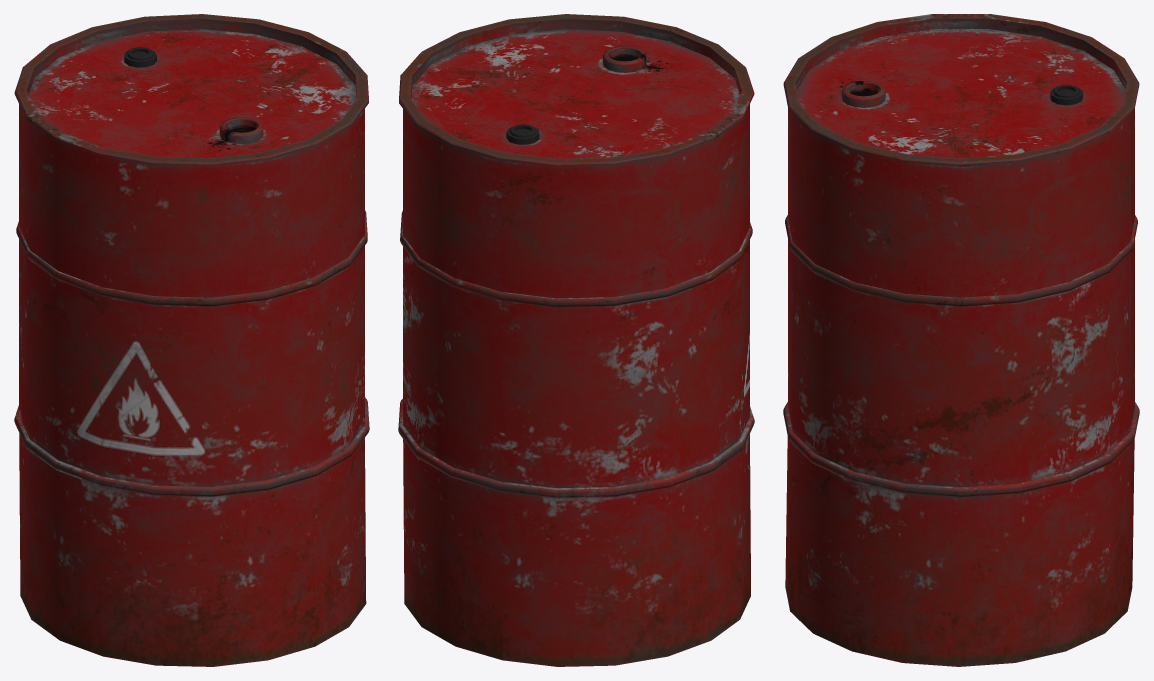
The model's file is simple_oil_barrel.glb.
3 views of the same model, side by side, from view 1: azimuth 30°, elevation 25°; view 2: azimuth 150°, elevation 25°; view 3: azimuth 270°, elevation 25° (orthographic).
Visible parts, largest first — view 1: pCylinder3; view 2: pCylinder3; view 3: pCylinder3.
Part boxes in pixels (x1,y1,x2,y2): pCylinder3: (14,14,369,666); pCylinder3: (398,14,754,666); pCylinder3: (783,14,1139,666).
Size of the model in its own units: 1.27 by 2 by 1.28.
Materials: 1 (1 with a texture image).
